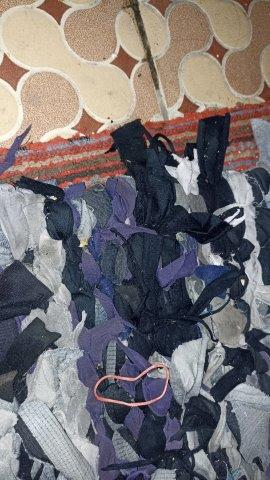karet: (95, 363, 170, 407)
